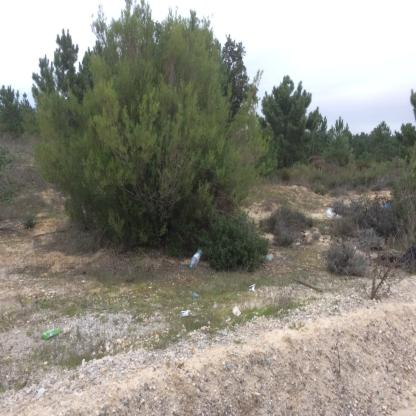trash: (186, 246, 206, 270), (256, 253, 277, 264), (326, 206, 339, 220), (180, 308, 193, 319), (190, 290, 200, 299)
